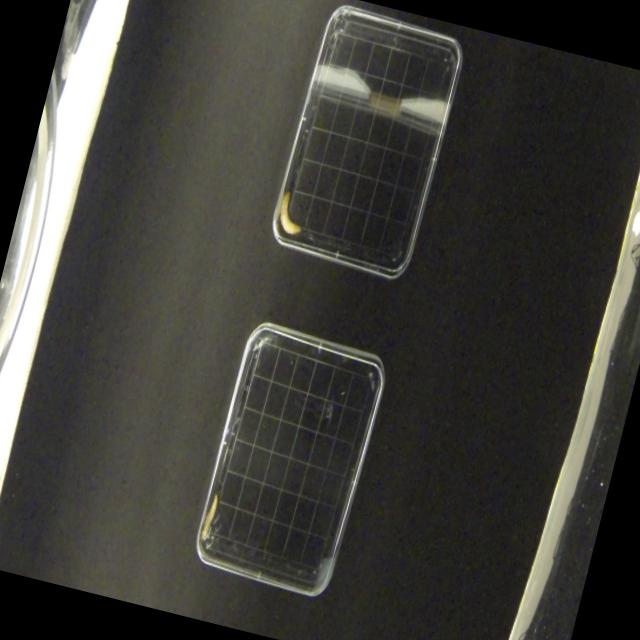larva: (275, 190, 307, 238), (202, 491, 220, 542)
